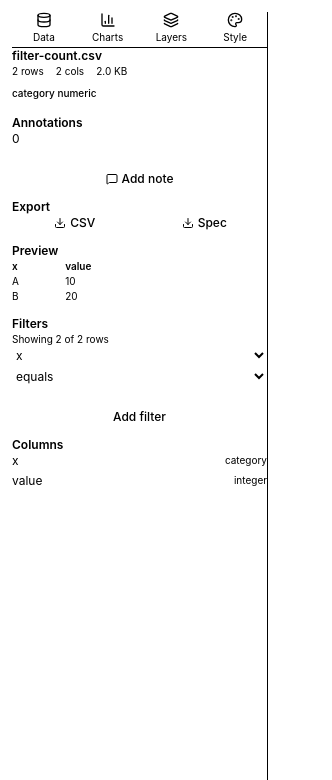
Scenario: Sidebar › shows the filtered row count in the Data tab
The image size is (332, 780).
Expected: the text "Showing 2 of 2 rows" is shown, 12,333 -> 109,345
Select "x" in the dropdown named "Filter column" at (140, 356), box 12,347 -> 267,364
Select "equals" in the dropdown named "Filter operator" at (140, 376), box 12,368 -> 267,385
Type "A" into the field named "Filter value" at (140, 397), box 12,389 -> 267,405
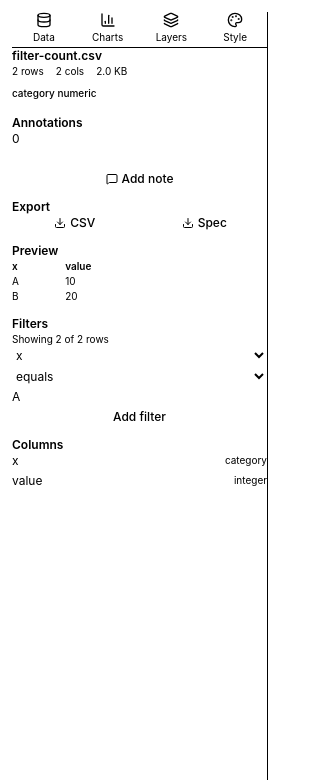
Click the button "Add filter" at (140, 417), box 12,409 -> 267,425
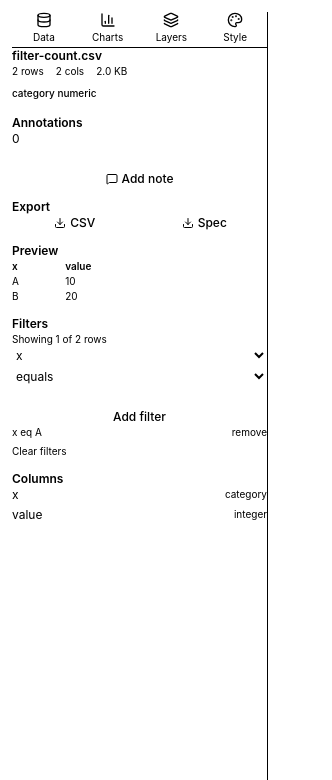
Expected: the text "Showing 1 of 2 rows" is shown, 12,333 -> 107,345
